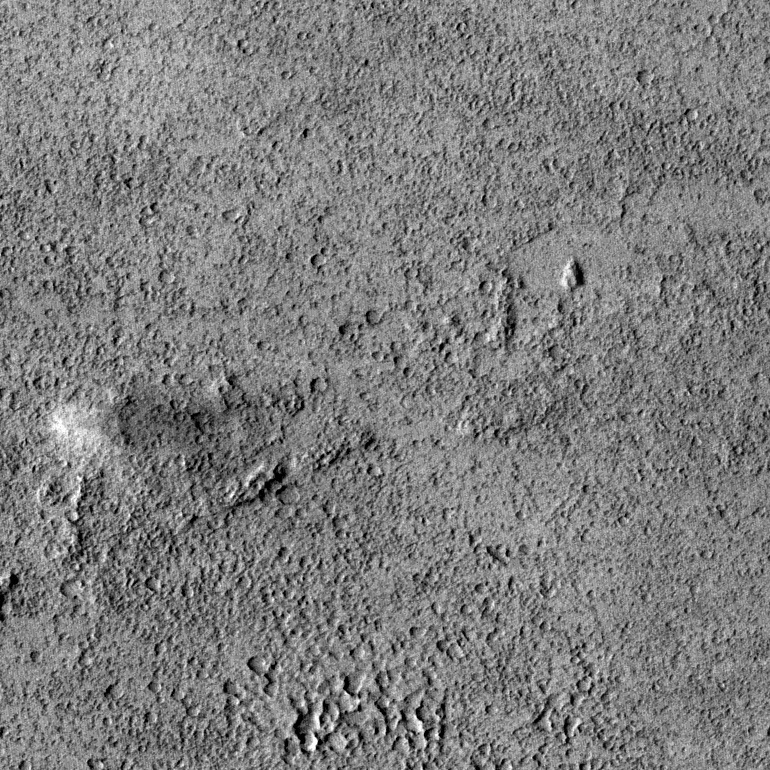dust_devil: (45, 390, 242, 462)
